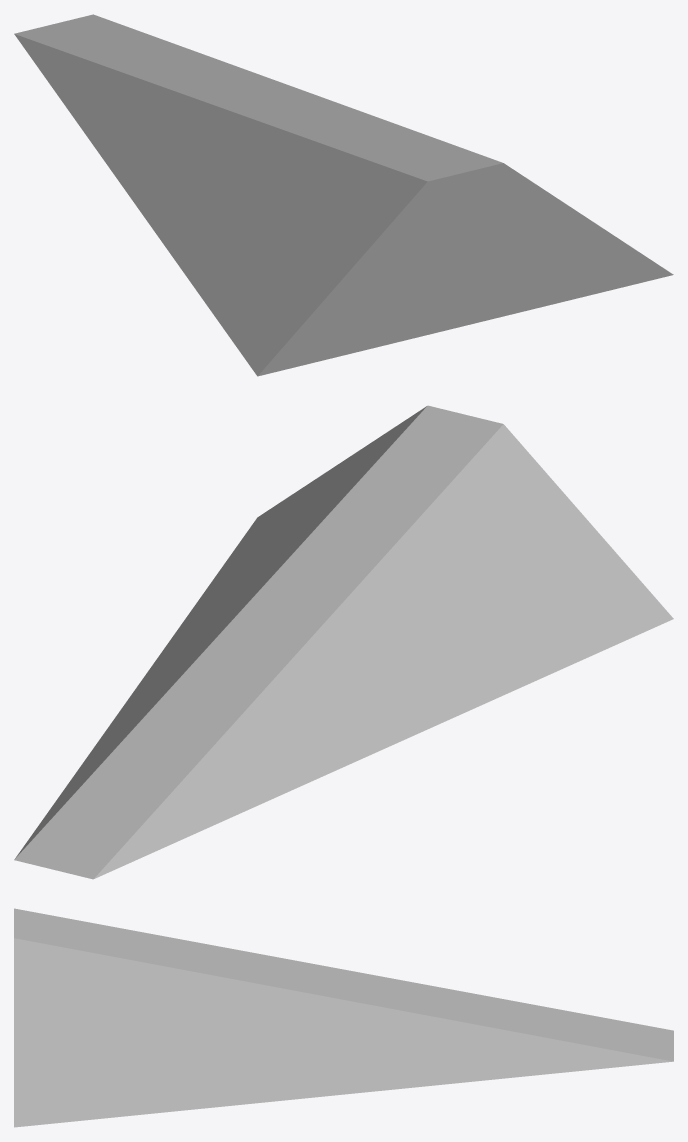
The model's file is FloatingUprail.fbx.
3 renders of one model, top to bottom at view 1: azimuth 30°, elevation 25°; view 2: azimuth 150°, elevation 25°; view 3: azimuth 270°, elevation 25°, orthographic. The views are drawn at different scales.
Visible parts, largest first — view 1: FloatingUpRail; view 2: FloatingUpRail; view 3: FloatingUpRail.
Boxes of the visible parts, x1,y1,x2,y2 form: FloatingUpRail: [14, 14, 673, 376]; FloatingUpRail: [14, 405, 673, 879]; FloatingUpRail: [14, 908, 673, 1127].
Size of the model in its own units: 2.45 by 4.2 by 0.8628.
